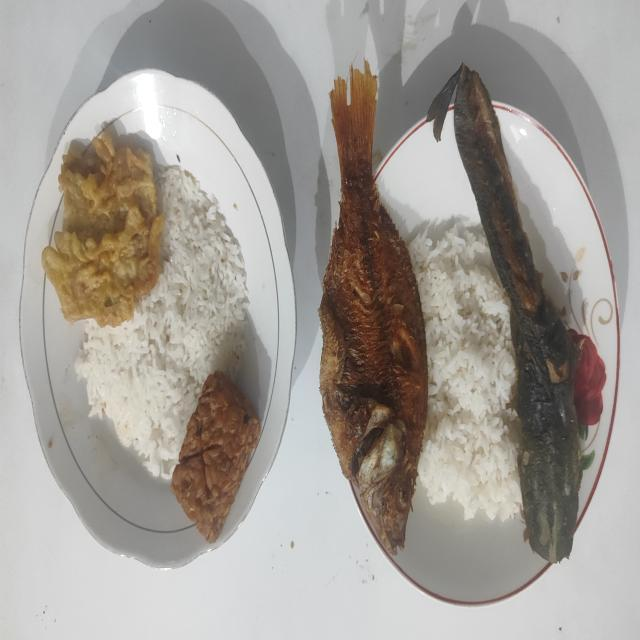ikan_mujair: (318, 61, 428, 555)
nasi_putih: (75, 166, 249, 479), (409, 222, 522, 521)
tempe_goreng: (172, 371, 260, 542)
